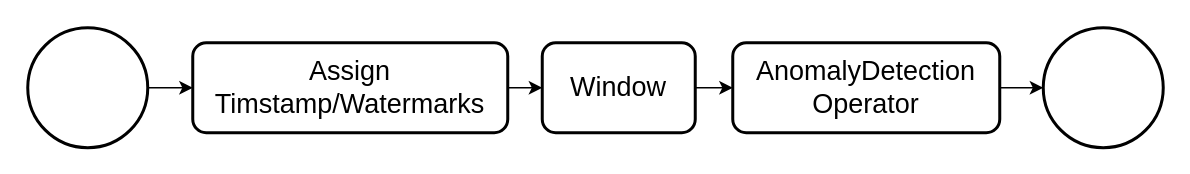
Some shapes in this 1190 by 174 pixel diagram are drawn without their labels. The box of each missing label's shape, as (x1, y1, x2, y2) in pixels:
Result Sink: (1041, 26, 1164, 148)
Source: (26, 26, 148, 148)
